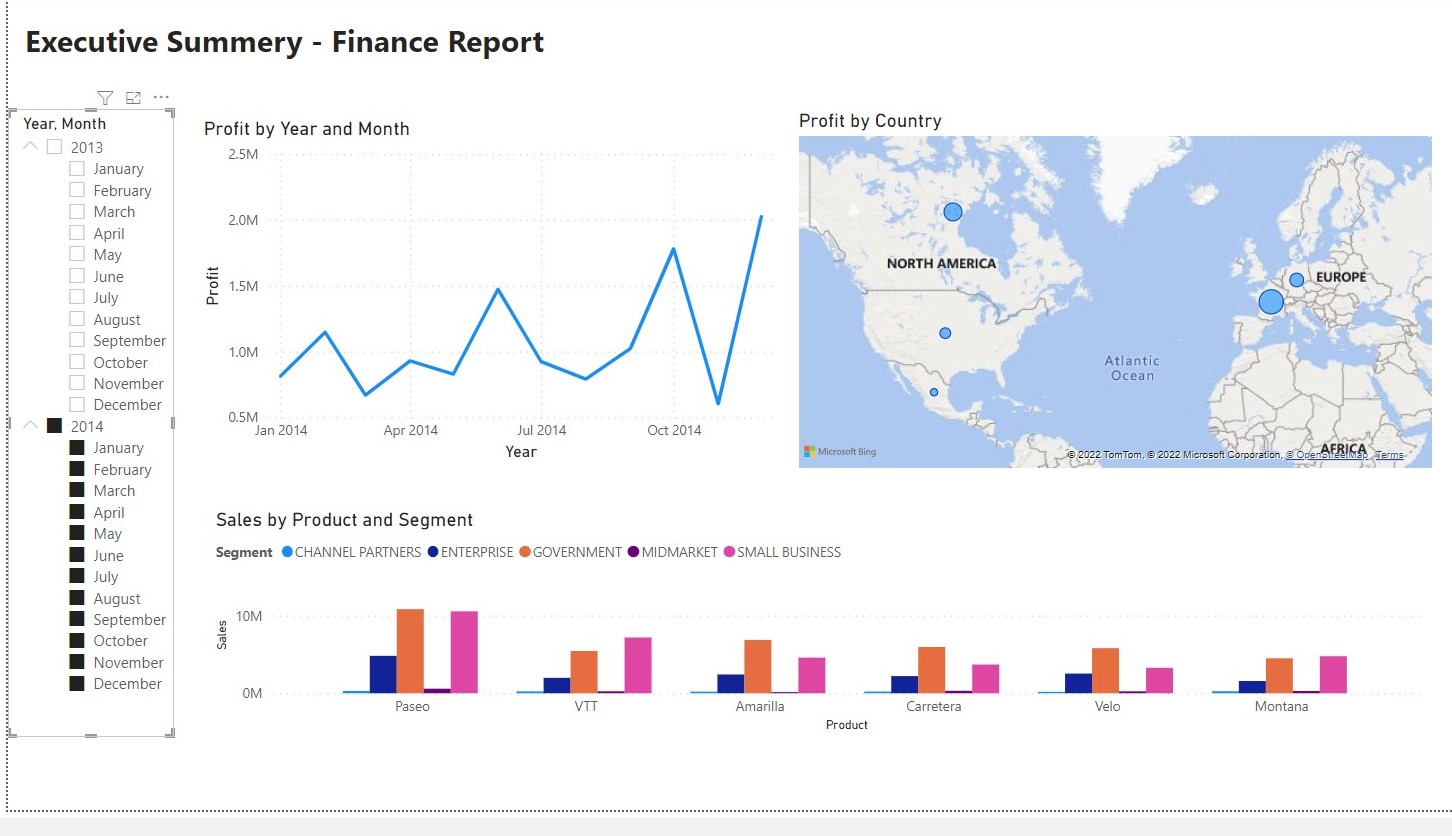

What the dashboard file says about the page in this screenshot:
{"tool":"powerbi","page":{"name":"Page 1","canvas":[1280,720],"ordinal":0},"visuals":[{"type":"textbox","box":[9.4,14.8,589.6,48.4],"z":0},{"type":"lineChart","fields":{"Category":["financials.Date.Variation.Date Hierarchy.Year","financials.Date.Variation.Date Hierarchy.Month"],"Y":["Sum(financials.Profit)"]},"box":[167.9,106.2,527.5,309.4],"z":1},{"type":"map","fields":{"Category":["financials.Country"],"Size":["Sum(financials.Profit)"]},"box":[695.4,99.3,570.9,323.1],"z":2},{"type":"clusteredColumnChart","fields":{"Category":["financials.Product"],"Y":["Sum(financials. Sales)"],"Series":["financials.Segment"]},"box":[179.3,452.2,1076.8,203.2],"z":3},{"type":"slicer","fields":{"Values":["financials.Date.Variation.Date Hierarchy.Year","financials.Date.Variation.Date Hierarchy.Month"]},"box":[0,99.3,147.3,556.1],"z":4}]}

Visuals, with their boxes on the page's 1280x720 design canvas (x1, y1, x2, y2). These are canvas units, not pixel positions in the 1452x836 screenshot, which may show the page scaled, cropped or inside an application window:
textbox: crop(9, 15, 599, 63)
lineChart - financials.Date.Variation.Date Hierarchy.Year x financials.Date.Variation.Date Hierarchy.Month: crop(168, 106, 695, 416)
map - financials.Country x Sum(financials.Profit): crop(695, 99, 1266, 422)
clusteredColumnChart - financials.Product x Sum(financials. Sales): crop(179, 452, 1256, 655)
slicer - financials.Date.Variation.Date Hierarchy.Year x financials.Date.Variation.Date Hierarchy.Month: crop(0, 99, 147, 655)
